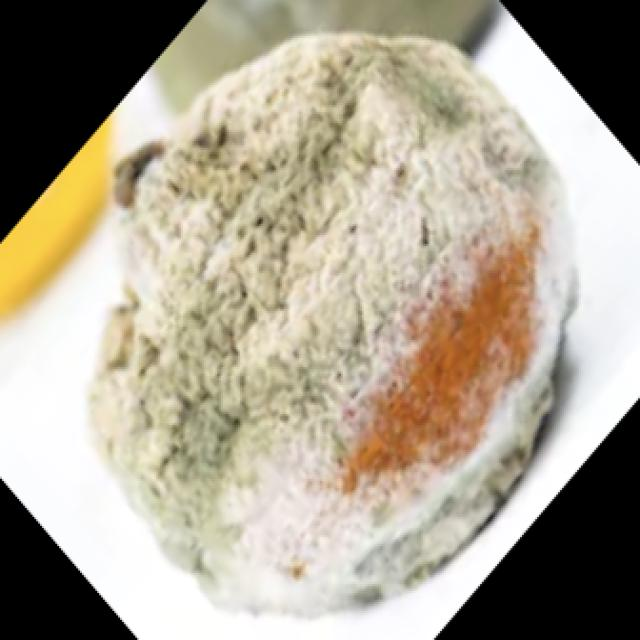sangat_busuk: (92, 38, 573, 610)
